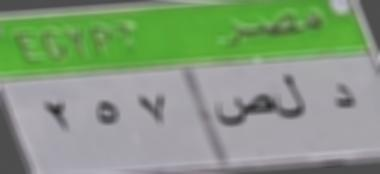2: (42, 96, 74, 137)
5: (93, 95, 123, 130)
7: (134, 87, 168, 128)
daal: (329, 81, 358, 115)
laam: (274, 70, 307, 124)
saad: (212, 92, 275, 131)
